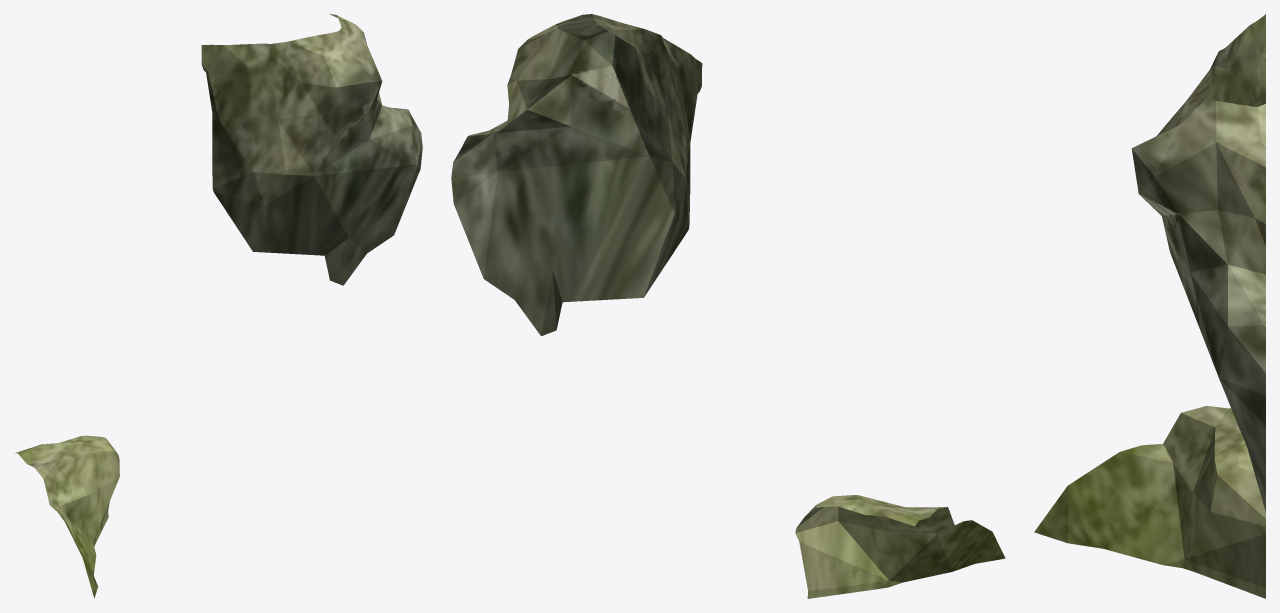
3 views of the same model, side by side, from view 1: azimuth 30°, elevation 25°; view 2: azimuth 150°, elevation 25°; view 3: azimuth 270°, elevation 25° (orthographic). The views are drawn at different scales.
Bounding box in the file's own units: 2.8 × 2.95 × 0.9529.
Materials: 1 (1 with a texture image).
